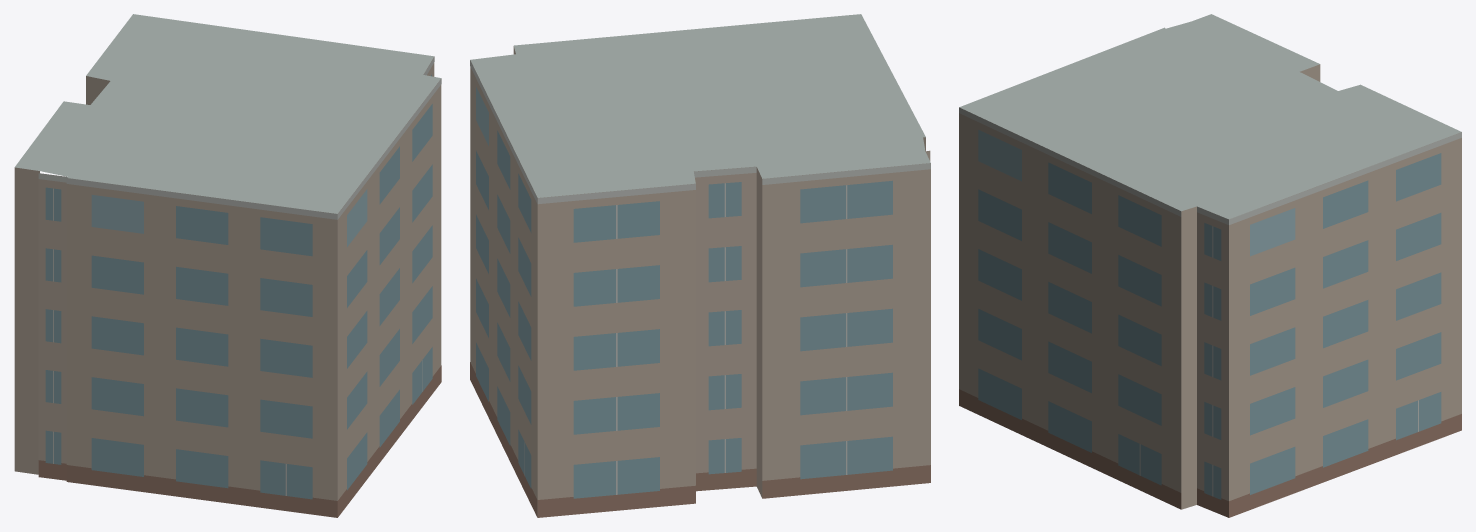
Rendered from survey-upis-32813535.glb.
3 views of the same model, side by side, from view 1: azimuth 30°, elevation 25°; view 2: azimuth 150°, elevation 25°; view 3: azimuth 270°, elevation 25° (orthographic). The views are drawn at different scales.
Parts seen in each view (by area): view 1: survey-upis-32813535.tmp; view 2: survey-upis-32813535.tmp; view 3: survey-upis-32813535.tmp.
Boxes of the visible parts, x1,y1,x2,y2 form: survey-upis-32813535.tmp: (14,14,441,517); survey-upis-32813535.tmp: (470,14,930,517); survey-upis-32813535.tmp: (959,14,1461,517).
Size of the model in its own units: 18.46 by 12.5 by 19.09.
